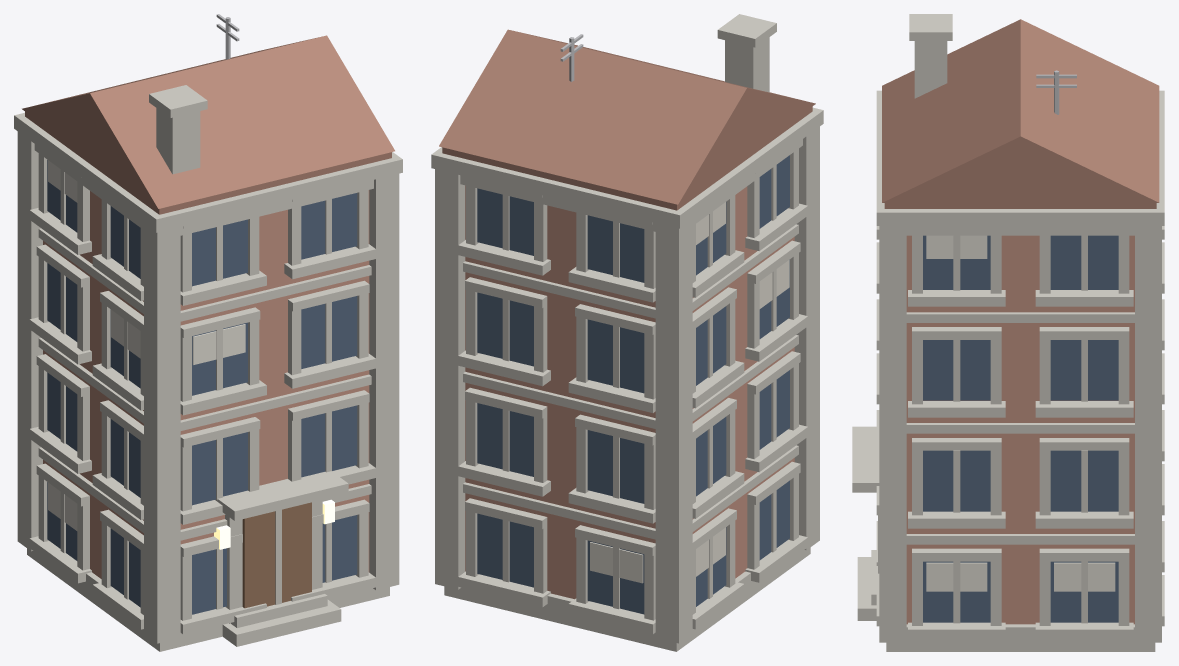
The model's file is bld_0_0.glb.
3 views of the same model, side by side, from view 1: azimuth 30°, elevation 25°; view 2: azimuth 150°, elevation 25°; view 3: azimuth 270°, elevation 25° (orthographic).
Parts seen in each view (by area): view 1: trim, rf, win, w, door, blind, porch; view 2: trim, rf, win, w, blind; view 3: trim, rf, win, w, blind, ac.
Boxes of the visible parts, x1,y1,x2,y2 form: trim: [14, 85, 402, 651]; rf: [22, 35, 394, 214]; win: [47, 160, 357, 614]; w: [43, 190, 369, 578]; door: [242, 502, 311, 608]; blind: [48, 160, 245, 530]; porch: [214, 499, 334, 549]; trim: [431, 14, 823, 651]; rf: [439, 29, 815, 210]; win: [477, 155, 789, 614]; w: [465, 185, 794, 599]; blind: [590, 202, 789, 583]; trim: [852, 14, 1164, 651]; rf: [882, 19, 1159, 208]; win: [923, 235, 1118, 622]; w: [906, 235, 1134, 624]; blind: [926, 235, 1115, 591]; ac: [1036, 70, 1076, 114].
Bounding box in the file's own units: 2.12 × 4.4 × 2.3.
